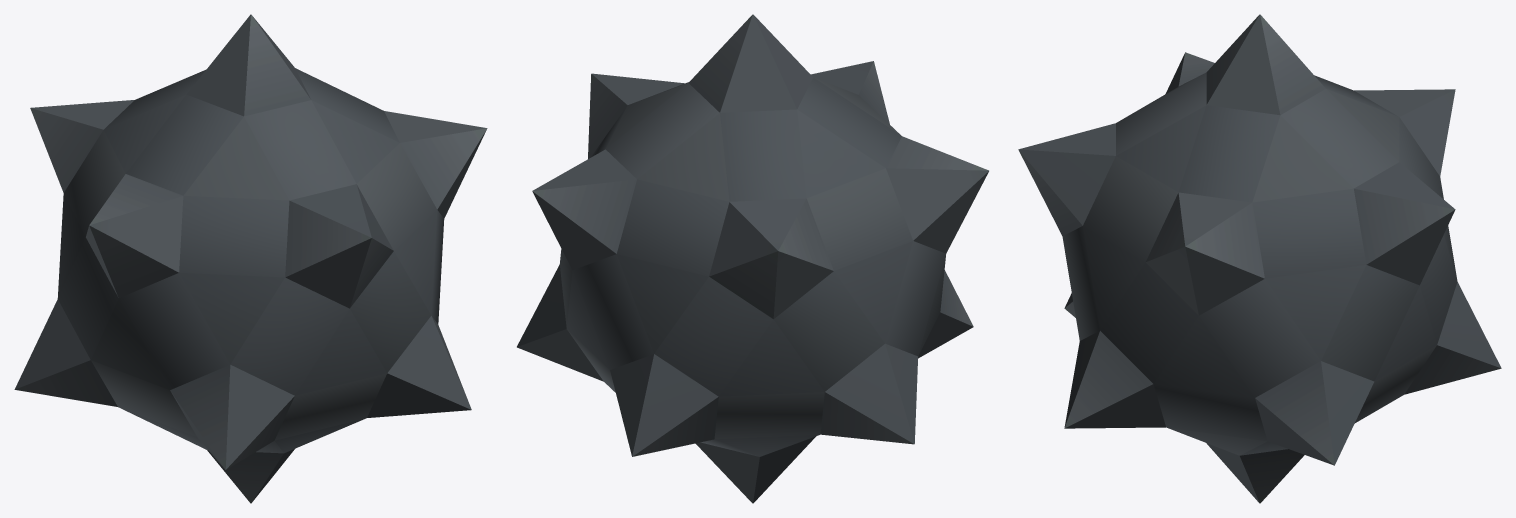
File: projectile_catapult.glb
3 views of the same model, side by side, from view 1: azimuth 30°, elevation 25°; view 2: azimuth 150°, elevation 25°; view 3: azimuth 270°, elevation 25° (orthographic).
Parts seen in each view (by area): view 1: projectile_catapult; view 2: projectile_catapult; view 3: projectile_catapult.
Boxes of the visible parts, left/top/right/bottom form: projectile_catapult: left=14, top=14, right=487, bottom=503; projectile_catapult: left=517, top=14, right=988, bottom=503; projectile_catapult: left=1018, top=14, right=1501, bottom=503.
Bounding box in the file's own units: 0.2405 × 0.2827 × 0.2528.
1 material, 1 textured.
